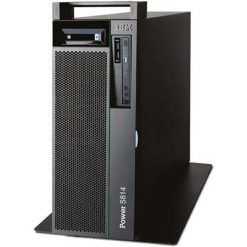ibm-server: (48, 1, 193, 244)
